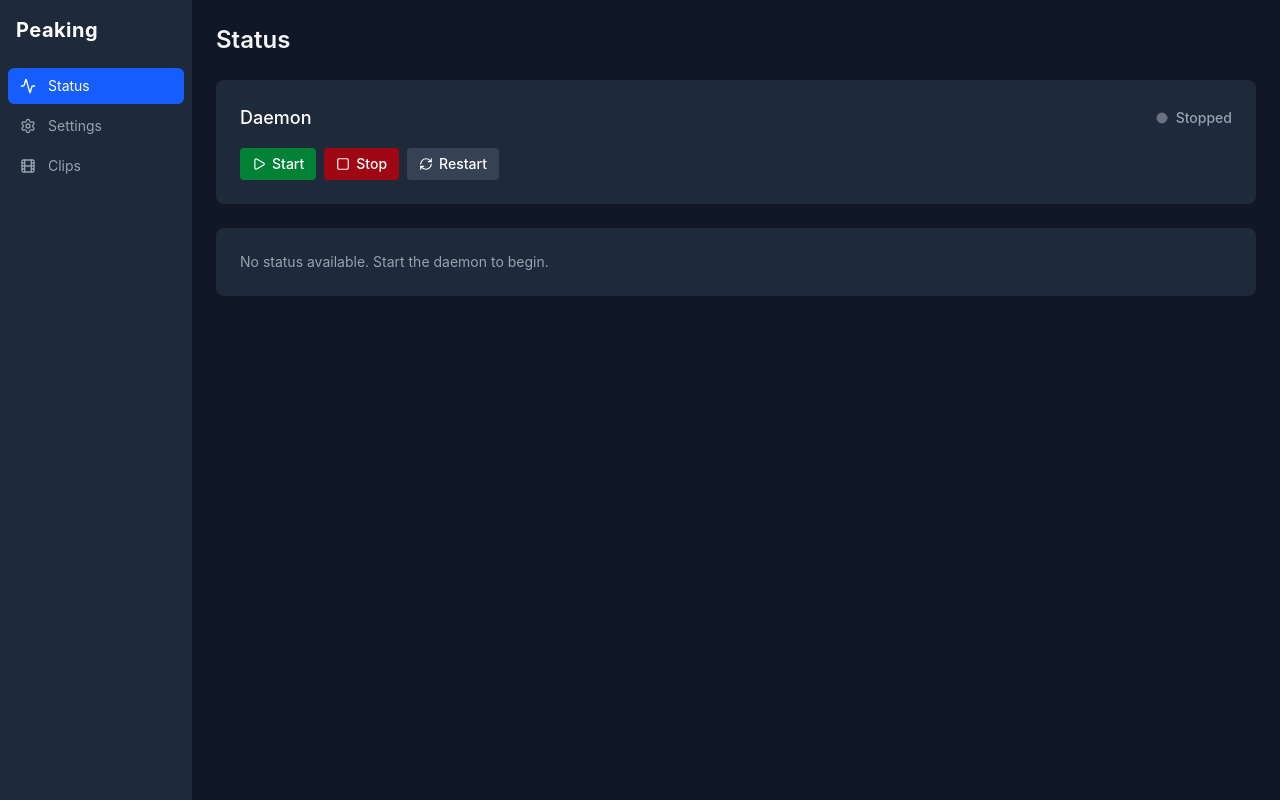
App › navigates back to the status page
Click the button "Settings": (96, 126) [8,108,184,144]
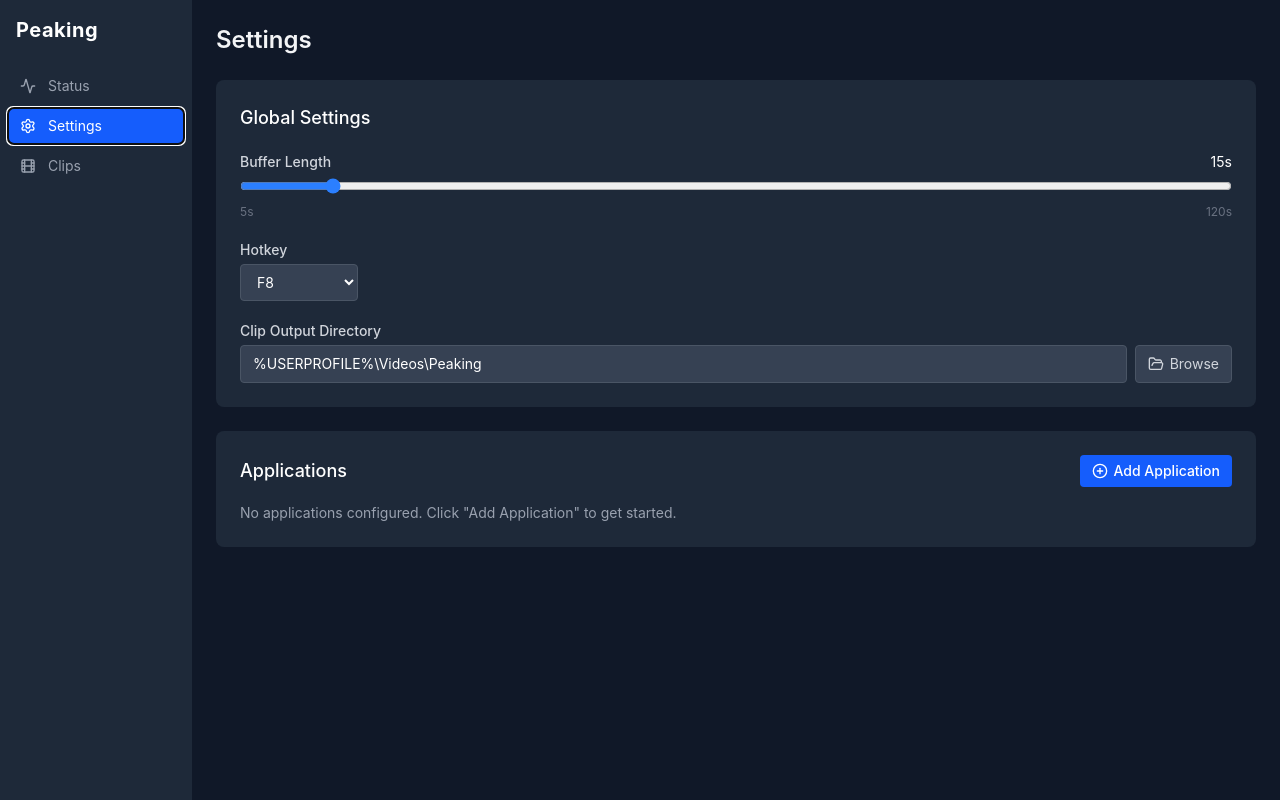
Click the button "Status": (96, 86) [8,68,184,104]
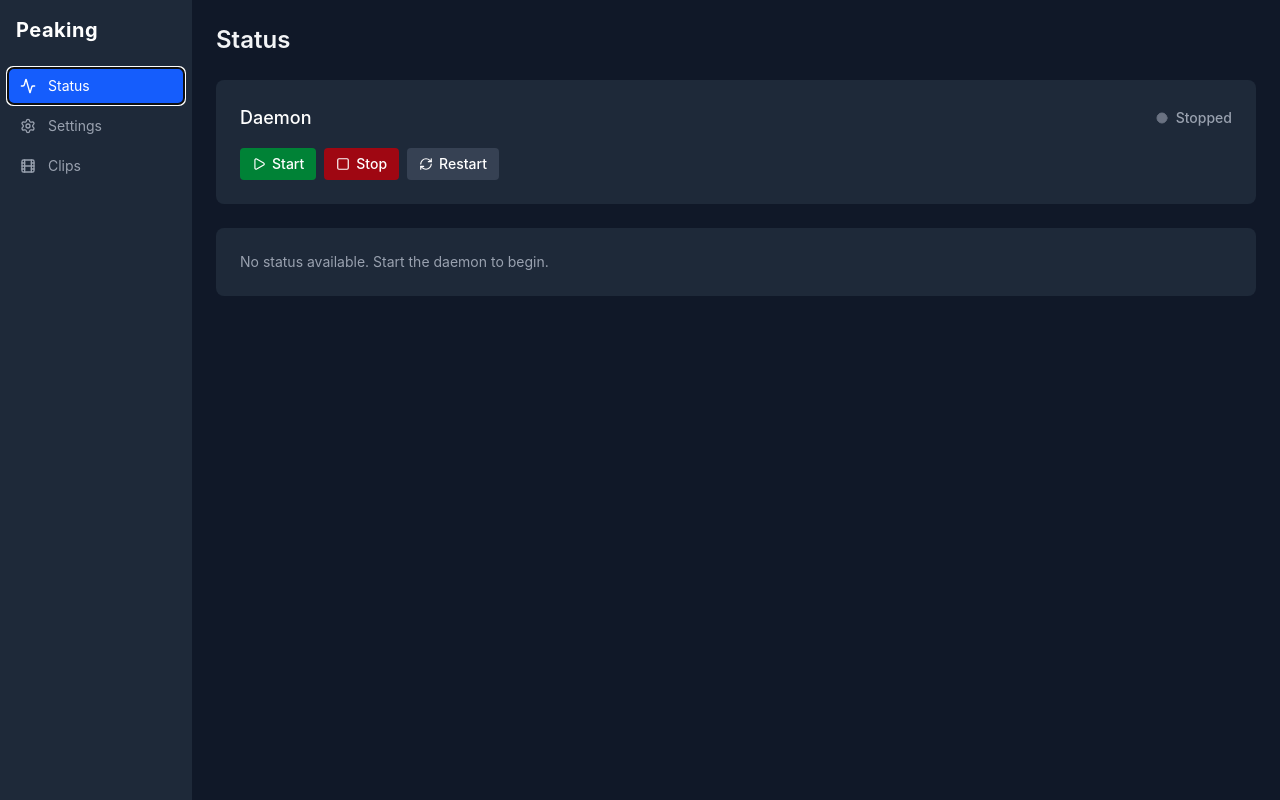
Result: the heading "Status" is shown at [216,25,290,54]
